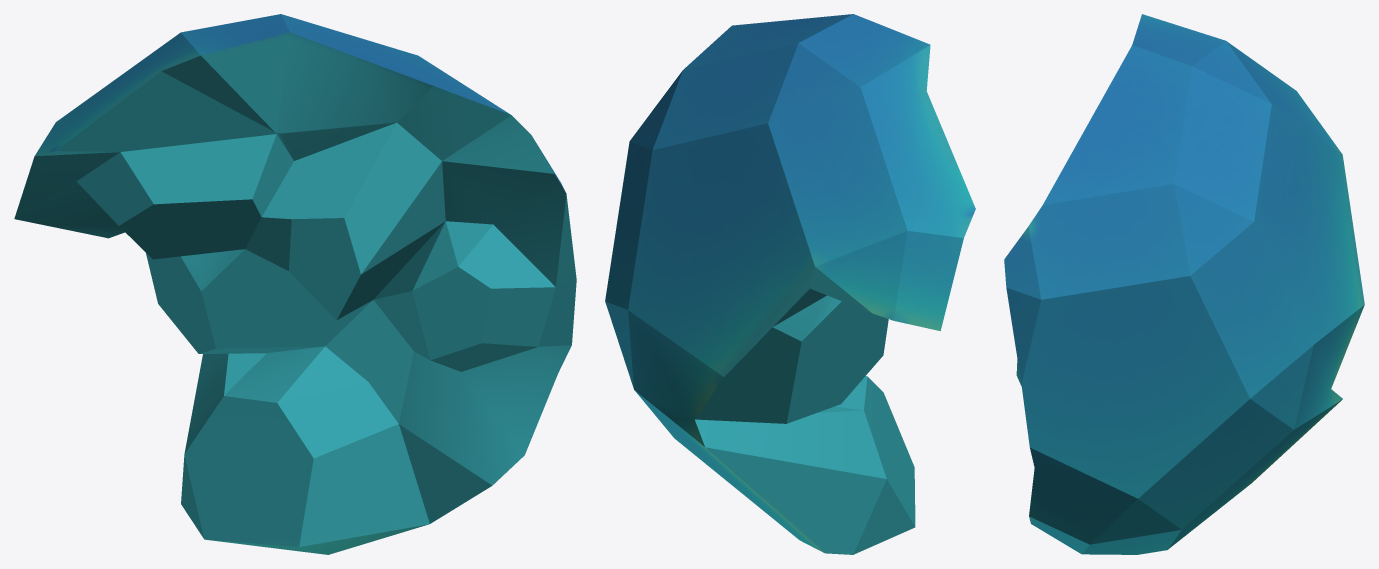
Rendered from p_mesh_quartz_part02.fbx.
3 views of the same model, side by side, from view 1: azimuth 30°, elevation 25°; view 2: azimuth 150°, elevation 25°; view 3: azimuth 270°, elevation 25° (orthographic). The views are drawn at different scales.
Visible parts, largest first — view 1: p_quartz_part02_lp; view 2: p_quartz_part02_lp; view 3: p_quartz_part02_lp.
Part boxes in pixels (left/top/right/bottom): p_quartz_part02_lp: left=14, top=14, right=576, bottom=554; p_quartz_part02_lp: left=605, top=14, right=975, bottom=554; p_quartz_part02_lp: left=1004, top=14, right=1364, bottom=554.
Bounding box in the file's own units: 3.73 × 4.64 × 3.09.
